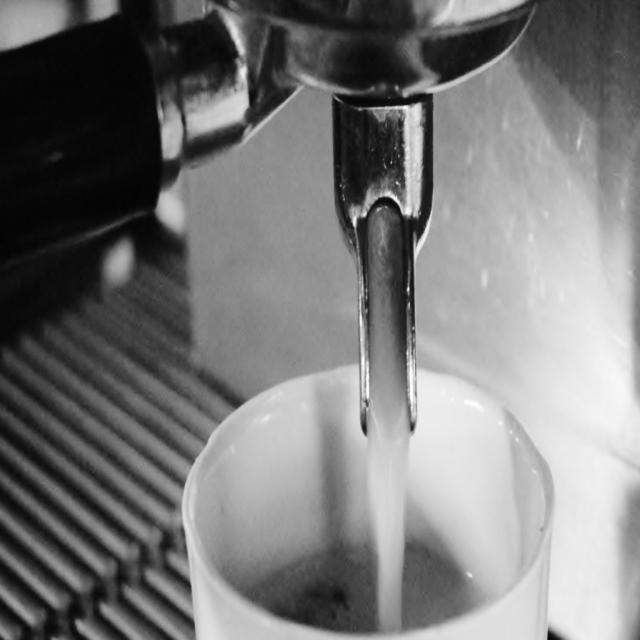Coffee: (232, 528, 482, 632)
